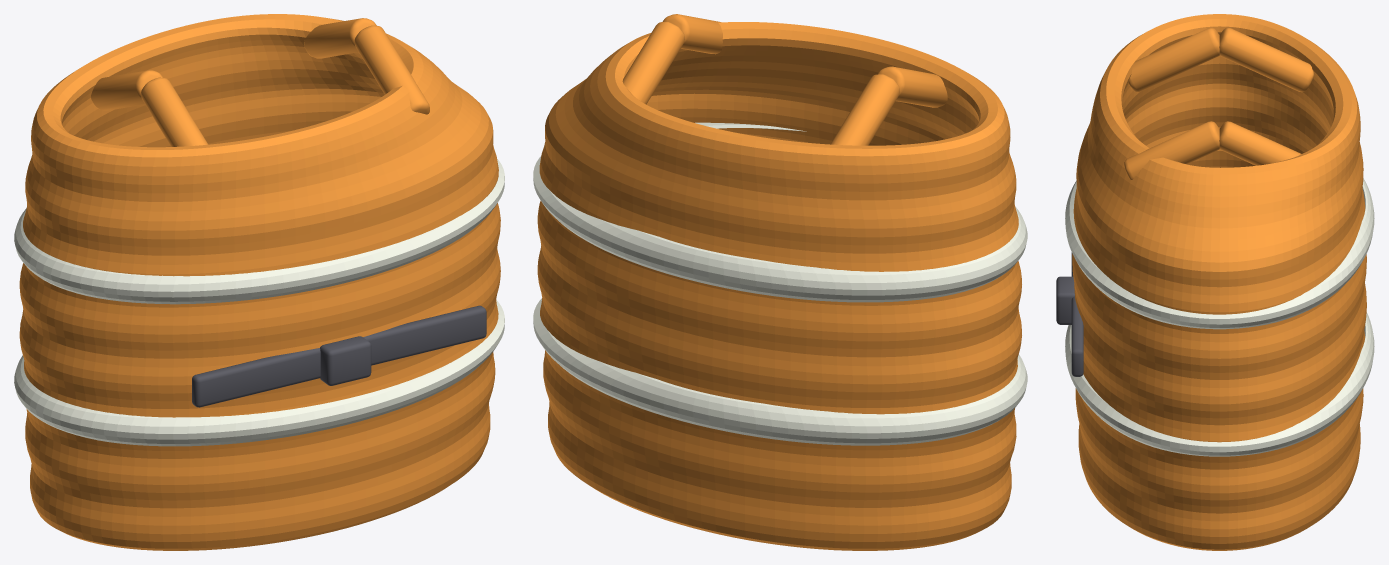
The model's file is life_vest.glb.
3 views of the same model, side by side, from view 1: azimuth 30°, elevation 25°; view 2: azimuth 150°, elevation 25°; view 3: azimuth 270°, elevation 25° (orthographic). The views are drawn at different scales.
Parts seen in each view (by area): view 1: life_vest; view 2: life_vest; view 3: life_vest.
Boxes of the visible parts, box(x1,y1,x2,y2) form: life_vest: box(14, 14, 504, 550); life_vest: box(533, 14, 1027, 550); life_vest: box(1056, 14, 1374, 550).
Bounding box in the file's own units: 0.4738 × 0.4224 × 0.3159.
